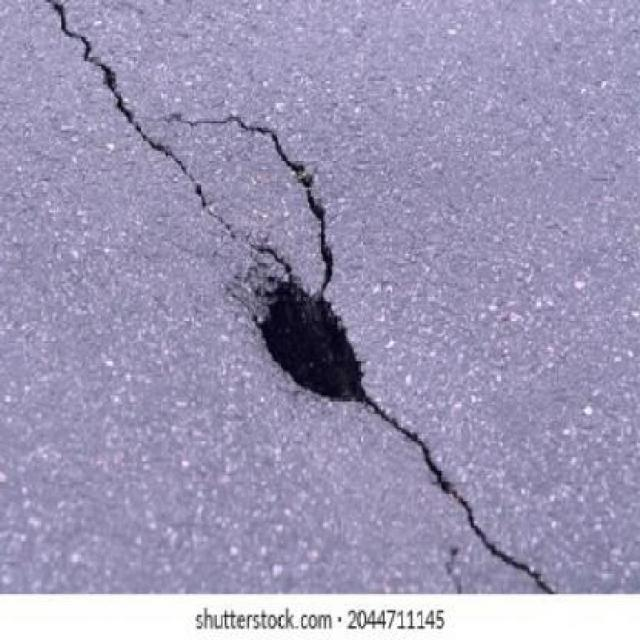Pothole: (246, 256, 372, 409)
